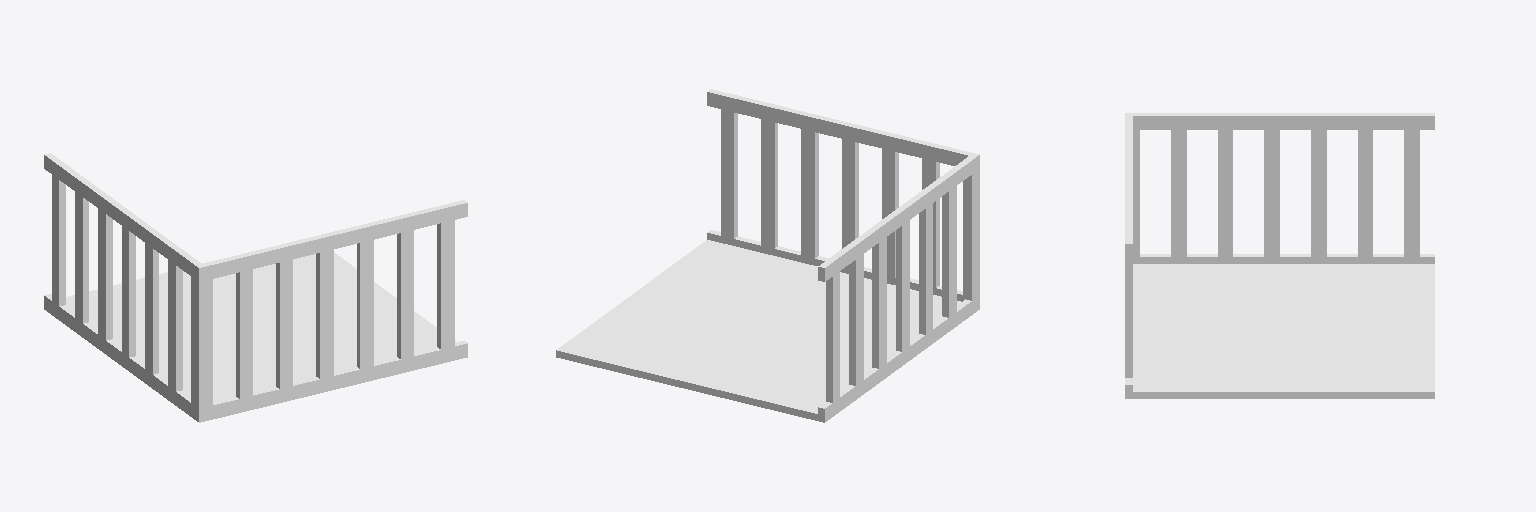
Rendered from fence_001.obj.
3 views of the same model, side by side, from view 1: azimuth 30°, elevation 25°; view 2: azimuth 150°, elevation 25°; view 3: azimuth 270°, elevation 25° (orthographic).
Visible parts, largest first — view 1: object 1; view 2: object 1; view 3: object 1.
Boxes of the visible parts, <box> form: object 1: <box>44,153,467,422</box>; object 1: <box>556,89,979,422</box>; object 1: <box>1125,113,1434,398</box>.
Bounding box in the file's own units: 4 × 2.2 × 4.